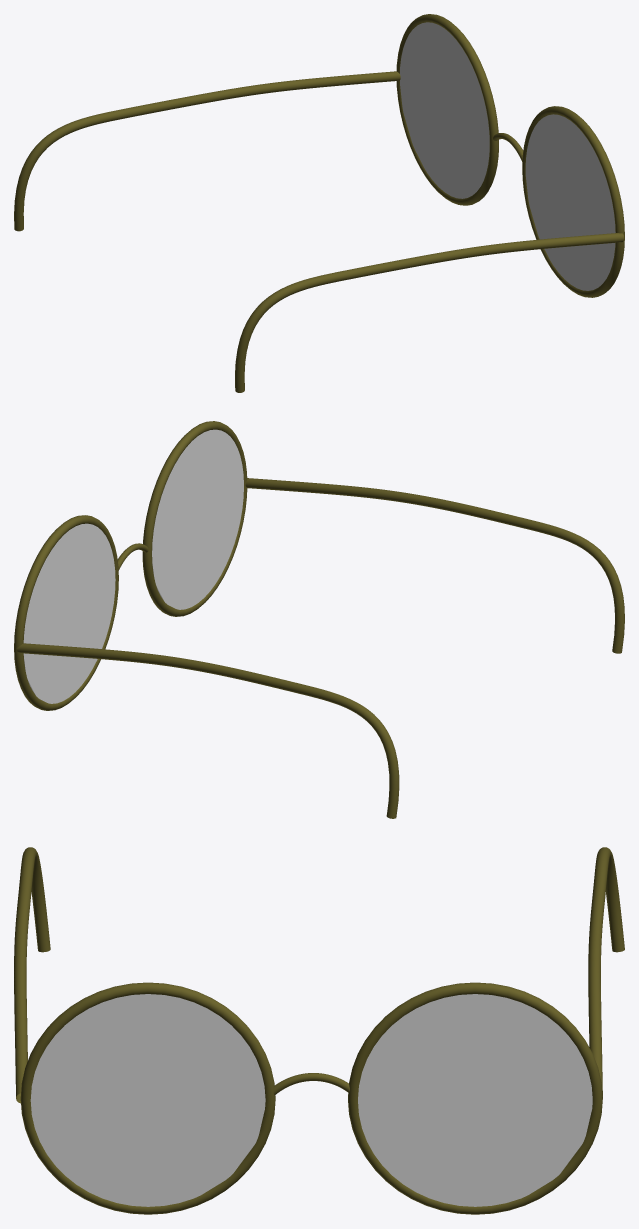
The model's file is Glasses.fbx.
3 renders of one model, top to bottom at view 1: azimuth 30°, elevation 25°; view 2: azimuth 150°, elevation 25°; view 3: azimuth 270°, elevation 25°, orthographic. The views are drawn at different scales.
Parts seen in each view (by area): view 1: Cylinder.001, Cylinder, NurbsPath.001, NurbsPath.002, BézierCircle.001, BézierCircle; view 2: Cylinder, Cylinder.001, NurbsPath.002, NurbsPath.001, BézierCircle, BézierCircle.001; view 3: Cylinder, Cylinder.001, BézierCircle.001, BézierCircle, NurbsPath.001, NurbsPath.002, NurbsPath.
Part boxes in pixels (left/top/right/bottom): Cylinder.001: left=400, top=22, right=489, bottom=198; Cylinder: left=525, top=114, right=615, bottom=290; NurbsPath.001: left=235, top=233, right=624, bottom=392; NurbsPath.002: left=14, top=71, right=400, bottom=231; BézierCircle.001: left=396, top=14, right=498, bottom=205; BézierCircle: left=522, top=106, right=624, bottom=297; Cylinder: left=152, top=429, right=243, bottom=609; Cylinder.001: left=23, top=523, right=115, bottom=703; NurbsPath.002: left=16, top=643, right=399, bottom=818; NurbsPath.001: left=245, top=478, right=624, bottom=653; BézierCircle: left=142, top=421, right=247, bottom=616; BézierCircle.001: left=14, top=515, right=118, bottom=710; Cylinder: left=30, top=994, right=265, bottom=1206; Cylinder.001: left=358, top=994, right=592, bottom=1206; BézierCircle.001: left=348, top=982, right=602, bottom=1214; BézierCircle: left=20, top=982, right=275, bottom=1214; NurbsPath.001: left=14, top=847, right=50, bottom=1103; NurbsPath.002: left=588, top=847, right=624, bottom=1097; NurbsPath: left=273, top=1073, right=349, bottom=1094.
Size of the model in its own units: 0.0566 by 0.0251 by 0.0602.
